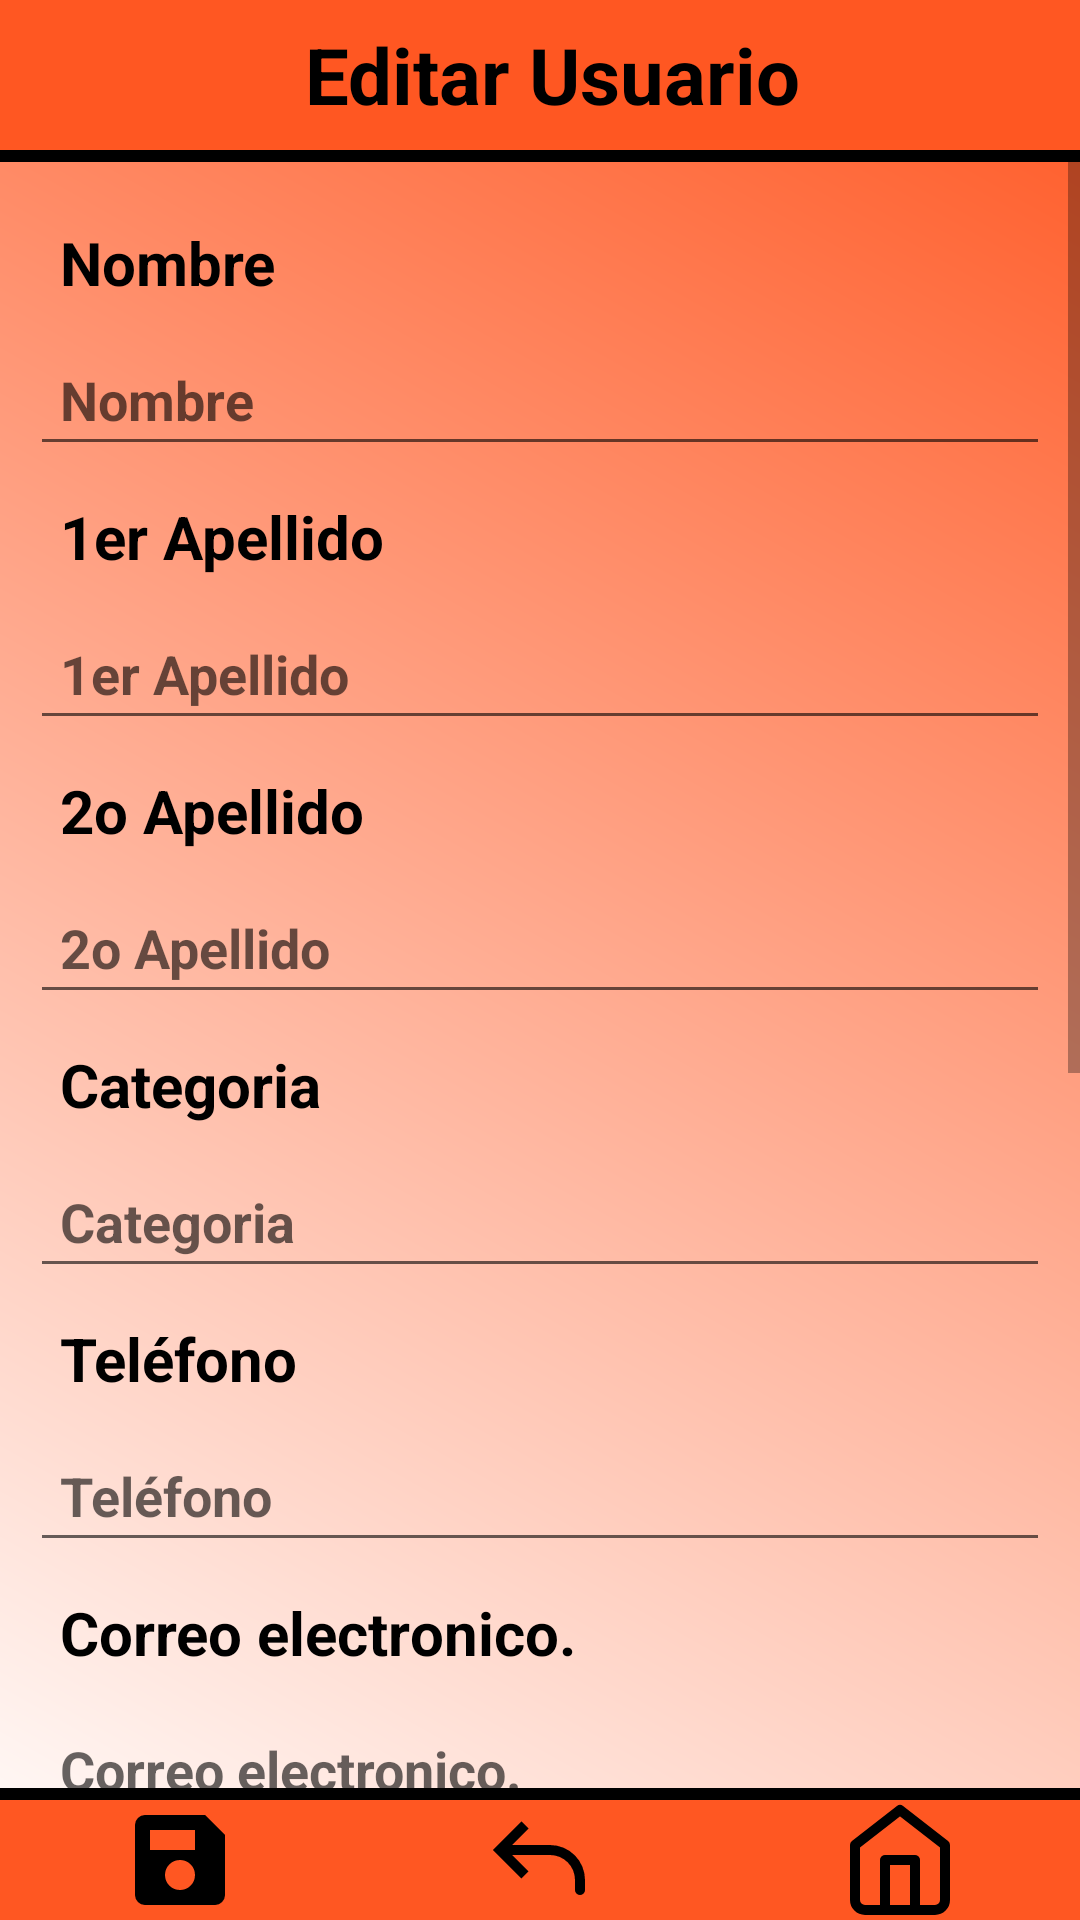

Icon click points for this 1080×1920 phone screenshot, format [x,y]:
back: [539,1858]
